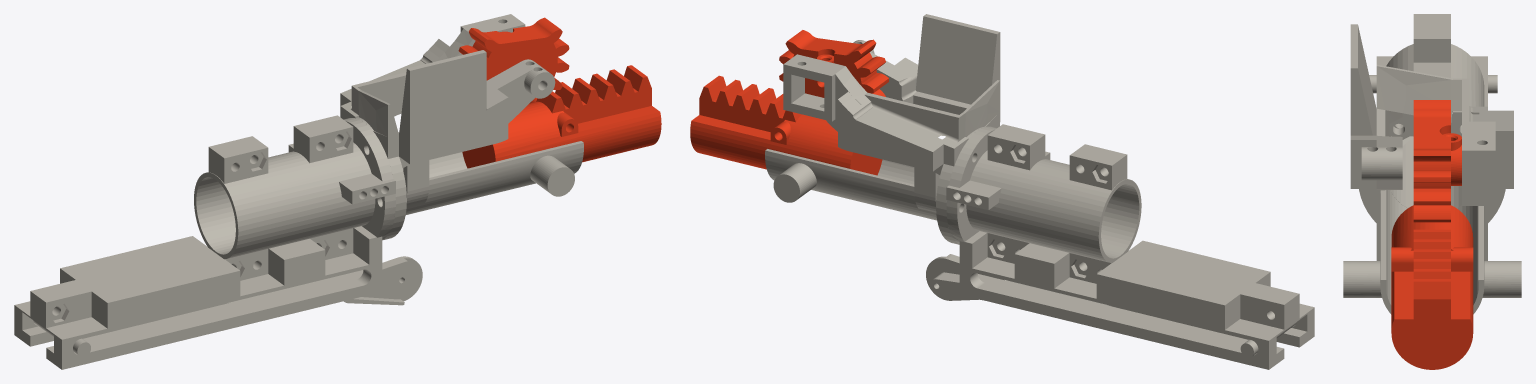
File: delivery-robot-shooter.glb
3 renders of one model, left to right at view 1: azimuth 30°, elevation 25°; view 2: azimuth 150°, elevation 25°; view 3: azimuth 270°, elevation 25°, orthographic. The views are drawn at different scales.
Parts seen in each view (by area): view 1: solid-0, solid-4, solid-5, solid-1, solid-3, solid-2, solid-6; view 2: solid-1, solid-4, solid-5, solid-0, solid-6, solid-3, solid-2; view 3: solid-4, solid-5, solid-3, solid-1, solid-0, solid-6, solid-2.
Boxes of the visible parts, <box> form: solid-0: <box>38,121,395,369</box>; solid-4: <box>340,14,583,240</box>; solid-5: <box>462,65,661,168</box>; solid-1: <box>14,115,363,346</box>; solid-3: <box>458,17,569,89</box>; solid-2: <box>33,256,422,356</box>; solid-6: <box>340,39,449,105</box>; solid-1: <box>946,129,1291,369</box>; solid-4: <box>765,14,1000,244</box>; solid-5: <box>690,75,882,175</box>; solid-0: <box>977,124,1314,347</box>; solid-6: <box>838,91,943,171</box>; solid-3: <box>779,30,888,97</box>; solid-2: <box>926,254,1296,357</box>; solid-4: <box>1343,24,1521,314</box>; solid-5: <box>1391,205,1473,369</box>; solid-3: <box>1413,100,1461,222</box>; solid-1: <box>1432,14,1487,260</box>; solid-0: <box>1376,14,1432,260</box>; solid-6: <box>1488,110,1513,188</box>; solid-2: <box>1369,75,1497,93</box>.
Bounding box in the file's own units: 0.2208 × 0.0903 × 0.048.
